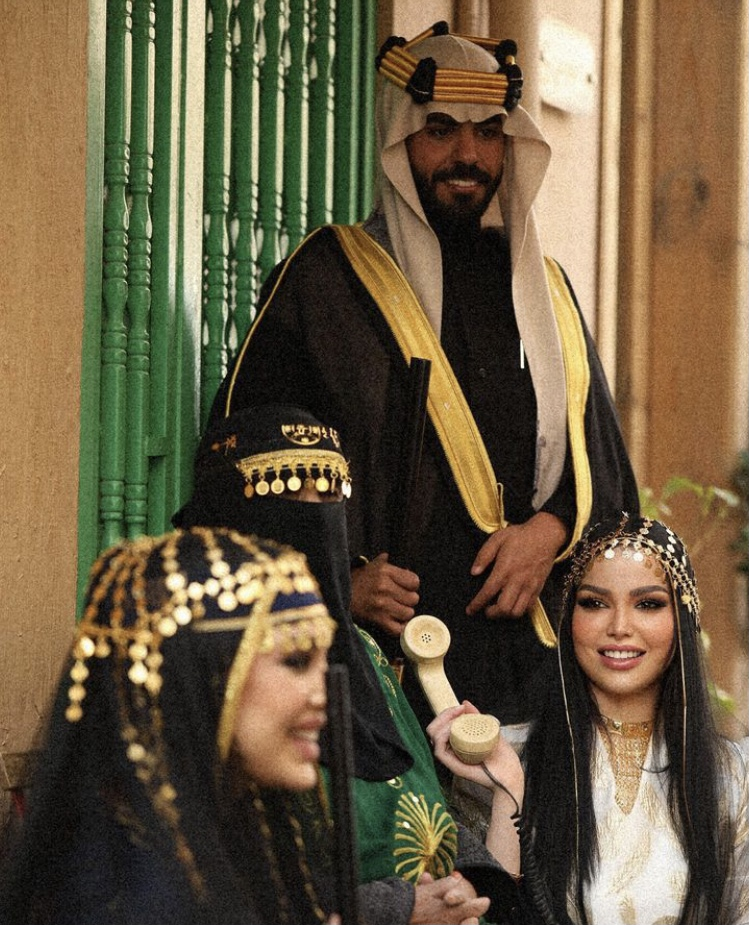Saudi_Founding_Day: (201, 17, 651, 731), (169, 396, 490, 925), (422, 503, 749, 925), (3, 520, 338, 925)
